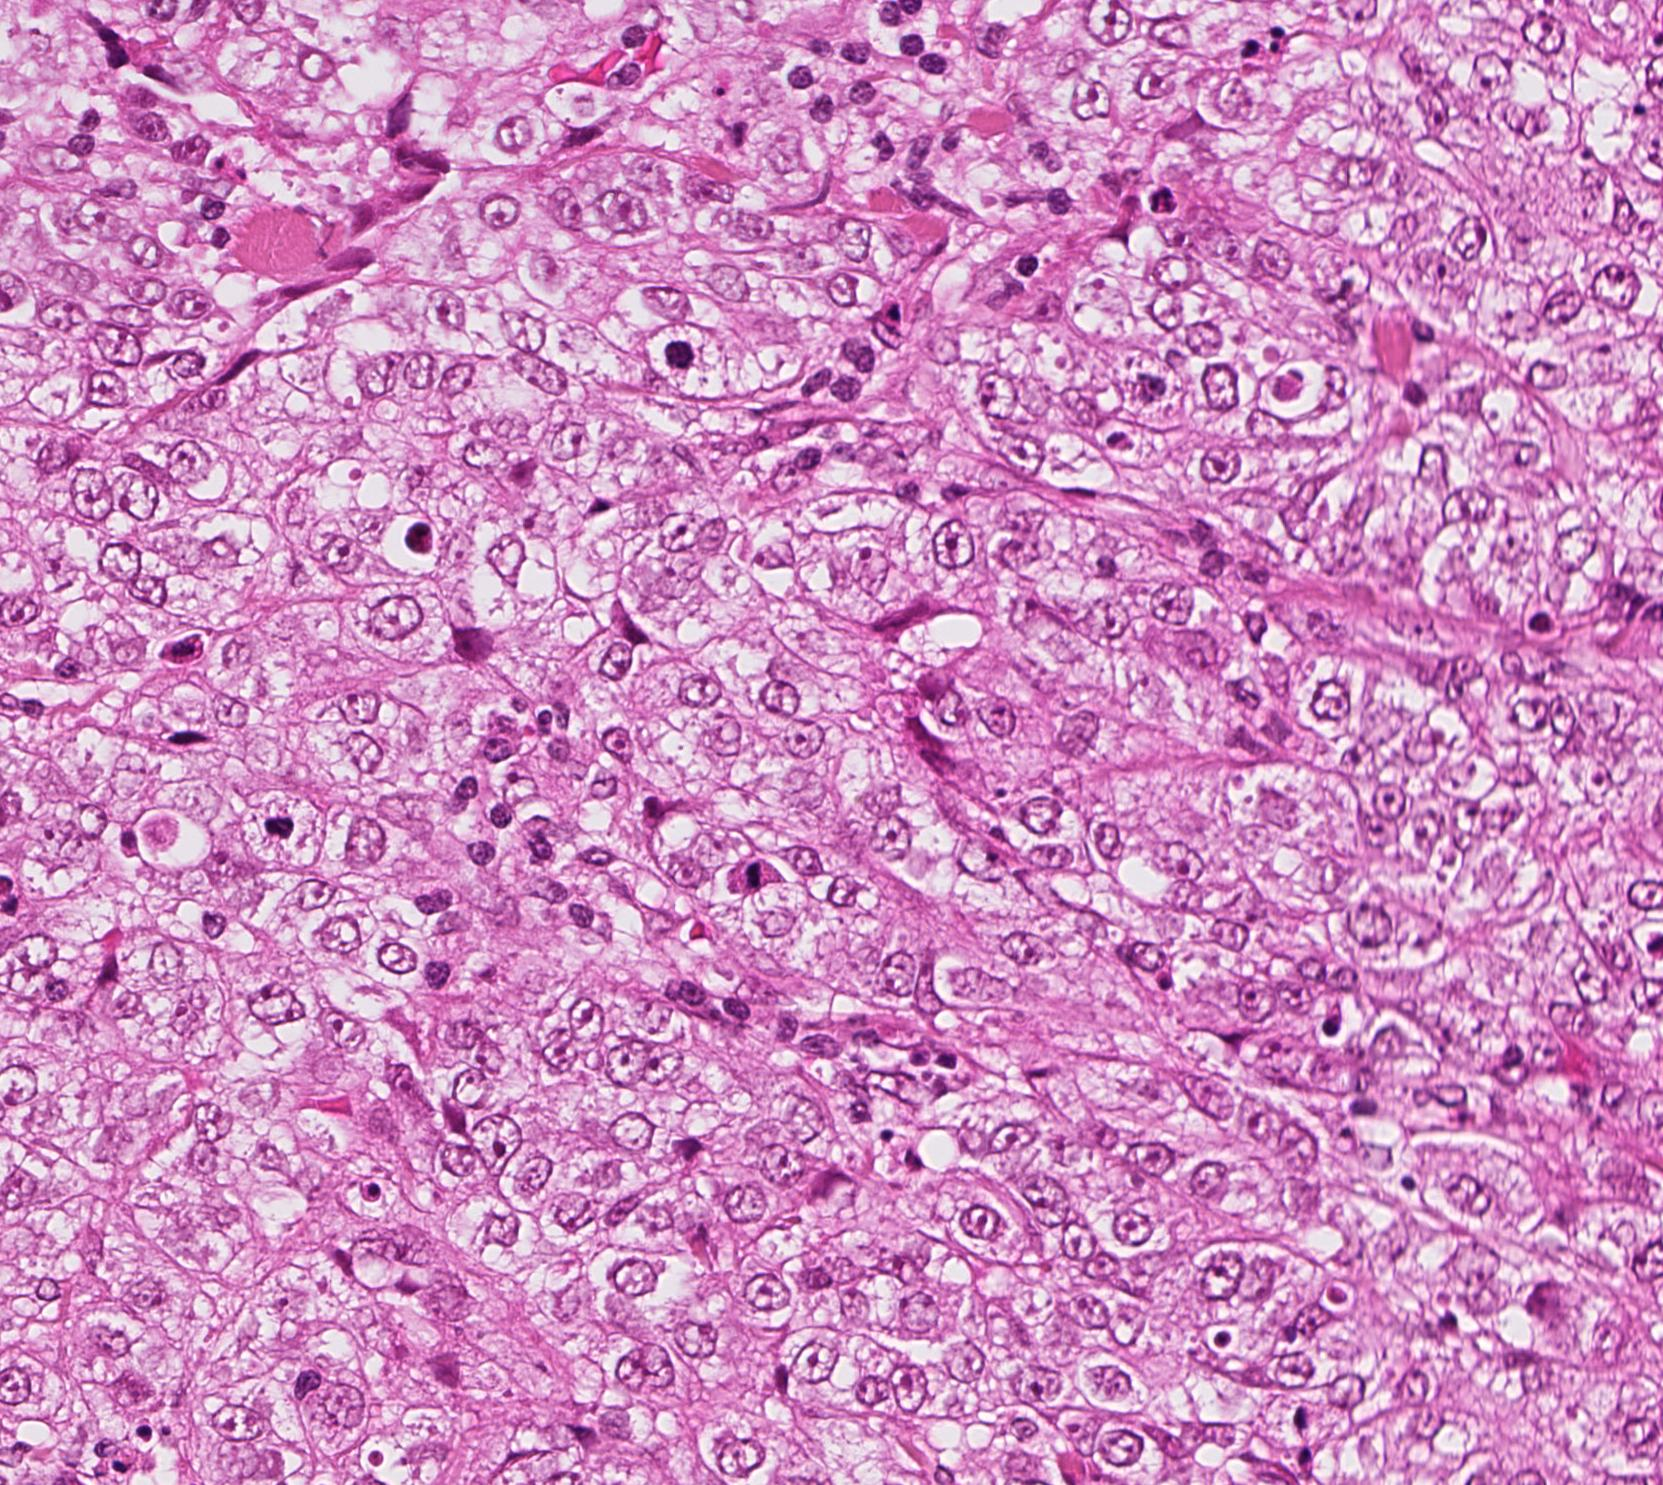mitosis: (654, 333, 714, 393)
